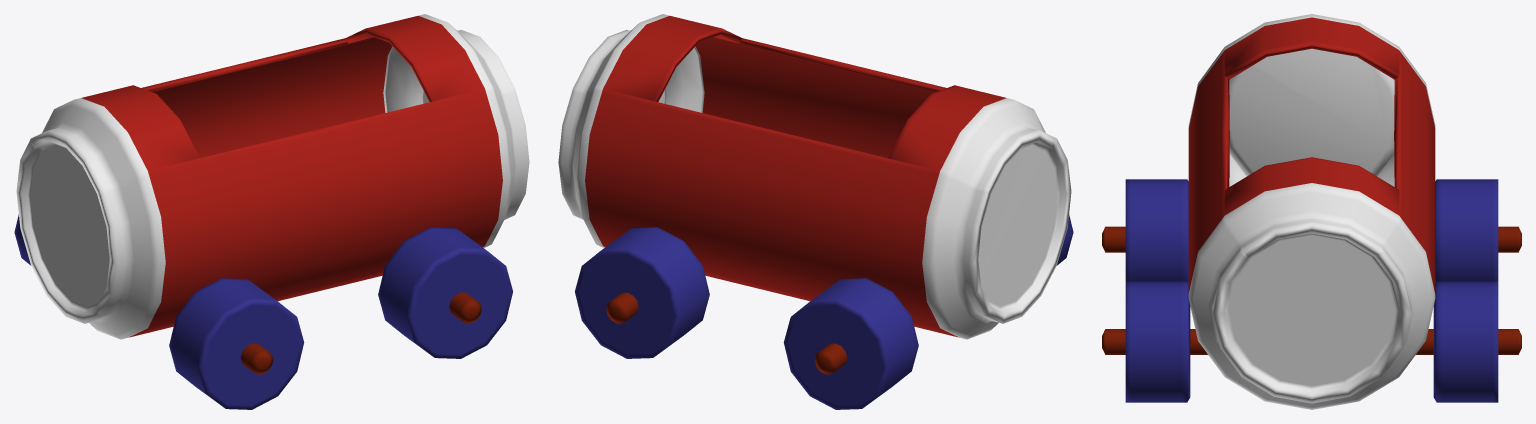
Rendered from mobil kaleng.fbx.
The picture shows the model from 3 angles, left to right: view 1: azimuth 30°, elevation 25°; view 2: azimuth 150°, elevation 25°; view 3: azimuth 270°, elevation 25°; orthographic projection.
Visible parts, largest first — view 1: Cylinder, Cylinder.001, Cylinder.002; view 2: Cylinder, Cylinder.001, Cylinder.002; view 3: Cylinder, Cylinder.001, Cylinder.002.
Boxes of the visible parts, <box> form: Cylinder: <box>16,14,529,339</box>; Cylinder.001: <box>14,214,512,409</box>; Cylinder.002: <box>240,292,481,374</box>; Cylinder: <box>558,14,1071,339</box>; Cylinder.001: <box>575,214,1073,409</box>; Cylinder.002: <box>606,292,847,374</box>; Cylinder: <box>1188,14,1435,409</box>; Cylinder.001: <box>1125,179,1498,402</box>; Cylinder.002: <box>1102,226,1521,354</box>.
Bounding box in the file's own units: 390 × 224 × 340.
